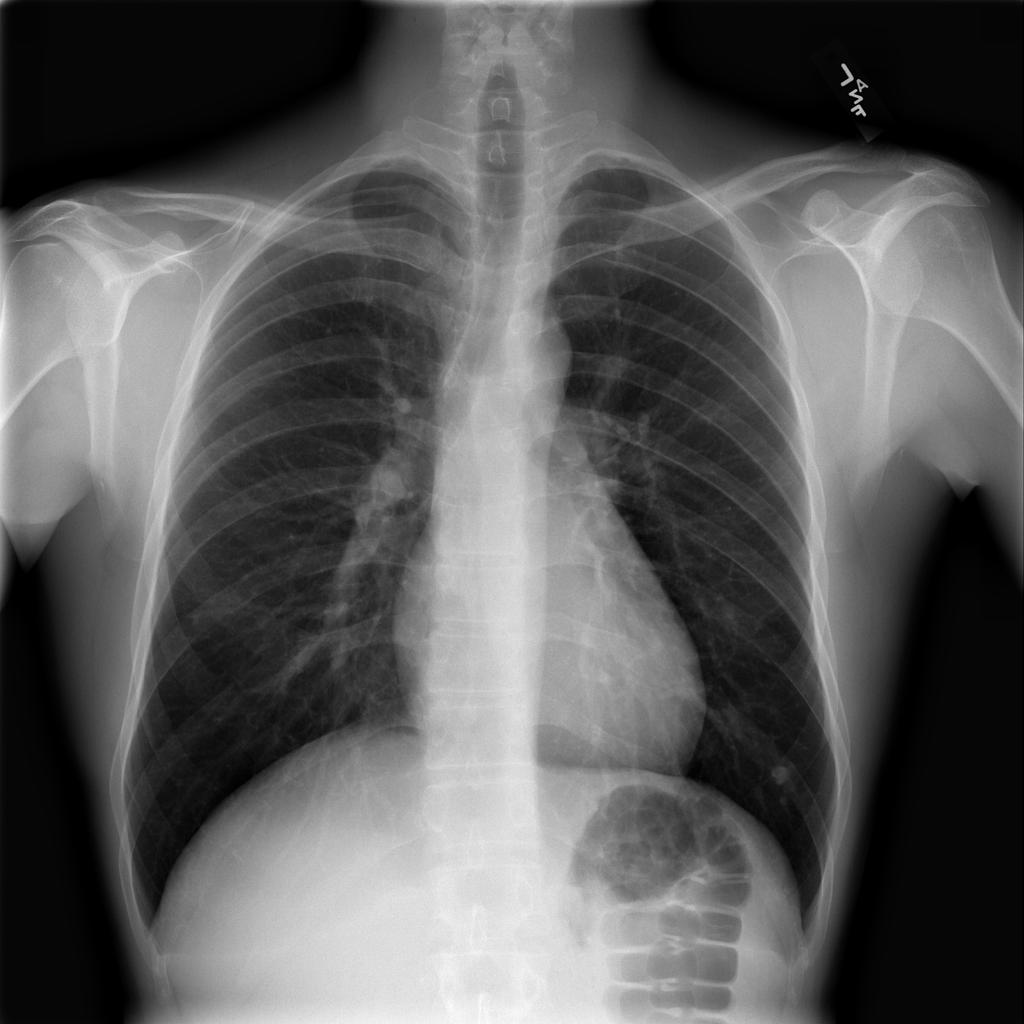nodule: (758, 747, 806, 800)
